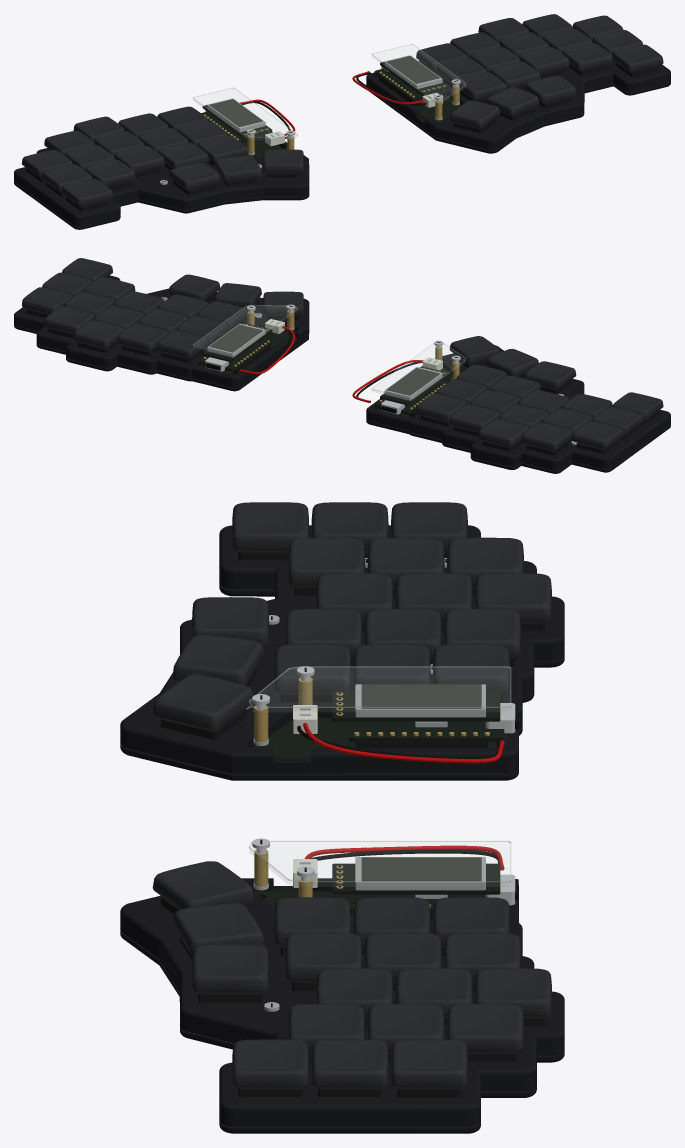
3 views of the same model, one above another, from view 1: azimuth 30°, elevation 25°; view 2: azimuth 150°, elevation 25°; view 3: azimuth 270°, elevation 25° (orthographic). The views are drawn at different scales.
Parts seen in each view (by area): view 1: case_top_left, case_top_right, case_bottom_left, case_bottom_right, L_SW19_Keycap, L_SW14_Keycap, R_SW21_Keycap, R_SW14_Keycap, R_SW20_Keycap, R_SW19_Keycap, L_SW20_Keycap, R_SW15_Keycap (+36 smaller); view 2: case_top_left, case_top_right, case_bottom_left, case_bottom_right, L_SW2_Keycap, R_SW6_Keycap, L_SW3_Keycap, R_SW4_Keycap, L_SW19_Keycap, L_SW4_Keycap, L_SW20_Keycap, L_SW21_Keycap (+37 smaller); view 3: case_top_right, case_top_left, L_SW21_Keycap, case_bottom_left, R_SW8_Keycap, R_SW14_Keycap, R_SW2_Keycap, R_SW19_Keycap, R_SW21_Keycap, case_bottom_right, L_SW14_Keycap, R_SW3_Keycap (+39 smaller).
Part boxes in pixels (left/top/right/bottom): case_top_left: left=14, top=132, right=309, bottom=226; case_top_right: left=366, top=60, right=670, bottom=149; case_bottom_left: left=14, top=181, right=309, bottom=229; case_bottom_right: left=369, top=81, right=670, bottom=153; L_SW19_Keycap: left=168, top=162, right=220, bottom=189; L_SW14_Keycap: left=61, top=179, right=112, bottom=206; R_SW21_Keycap: left=449, top=100, right=500, bottom=127; R_SW14_Keycap: left=612, top=44, right=663, bottom=71; R_SW20_Keycap: left=486, top=87, right=539, bottom=115; R_SW19_Keycap: left=524, top=75, right=576, bottom=102; L_SW20_Keycap: left=214, top=155, right=261, bottom=180; R_SW15_Keycap: left=562, top=43, right=612, bottom=70; case_top_left: left=366, top=345, right=670, bottom=470; case_top_right: left=14, top=275, right=309, bottom=387; case_bottom_left: left=366, top=419, right=670, bottom=473; case_bottom_right: left=14, top=324, right=309, bottom=391; L_SW2_Keycap: left=572, top=421, right=623, bottom=448; R_SW6_Keycap: left=157, top=330, right=208, bottom=357; L_SW3_Keycap: left=522, top=423, right=572, bottom=449; R_SW4_Keycap: left=73, top=320, right=124, bottom=347; L_SW19_Keycap: left=525, top=361, right=576, bottom=388; L_SW4_Keycap: left=478, top=419, right=529, bottom=446; L_SW20_Keycap: left=486, top=349, right=538, bottom=376; L_SW21_Keycap: left=449, top=336, right=499, bottom=363; case_top_right: left=120, top=878, right=564, bottom=1126; case_top_left: left=120, top=525, right=564, bottom=773; L_SW21_Keycap: left=152, top=674, right=253, bottom=729; case_bottom_left: left=120, top=584, right=564, bottom=780; R_SW8_Keycap: left=311, top=1039, right=388, bottom=1086; R_SW14_Keycap: left=232, top=1039, right=309, bottom=1086; R_SW2_Keycap: left=391, top=1039, right=467, bottom=1086; R_SW19_Keycap: left=192, top=944, right=268, bottom=991; R_SW21_Keycap: left=152, top=861, right=254, bottom=909; case_bottom_right: left=120, top=930, right=564, bottom=1133; L_SW14_Keycap: left=232, top=502, right=309, bottom=549; R_SW3_Keycap: left=447, top=1004, right=523, bottom=1051.
Size of the model in its own units: 0.2953 by 0.0193 by 0.0952.
